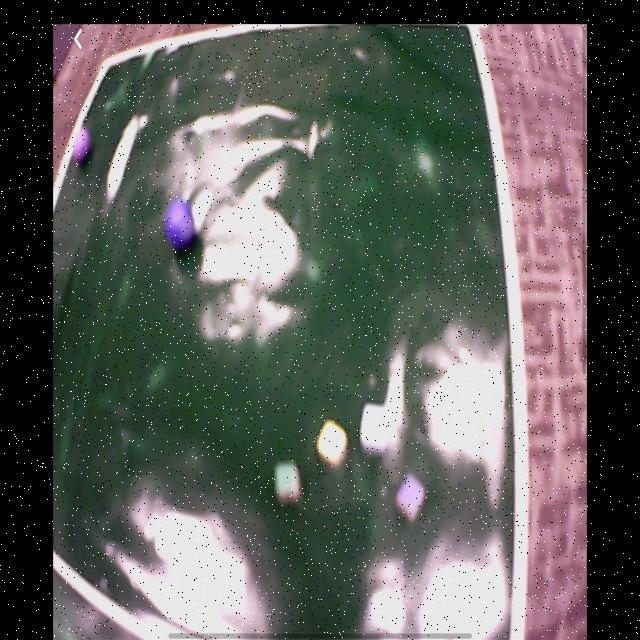ball: (165, 198, 194, 245), (75, 128, 93, 162)
